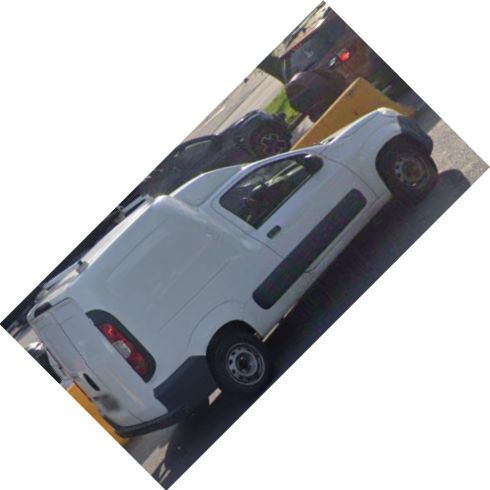car: (28, 106, 437, 435)
